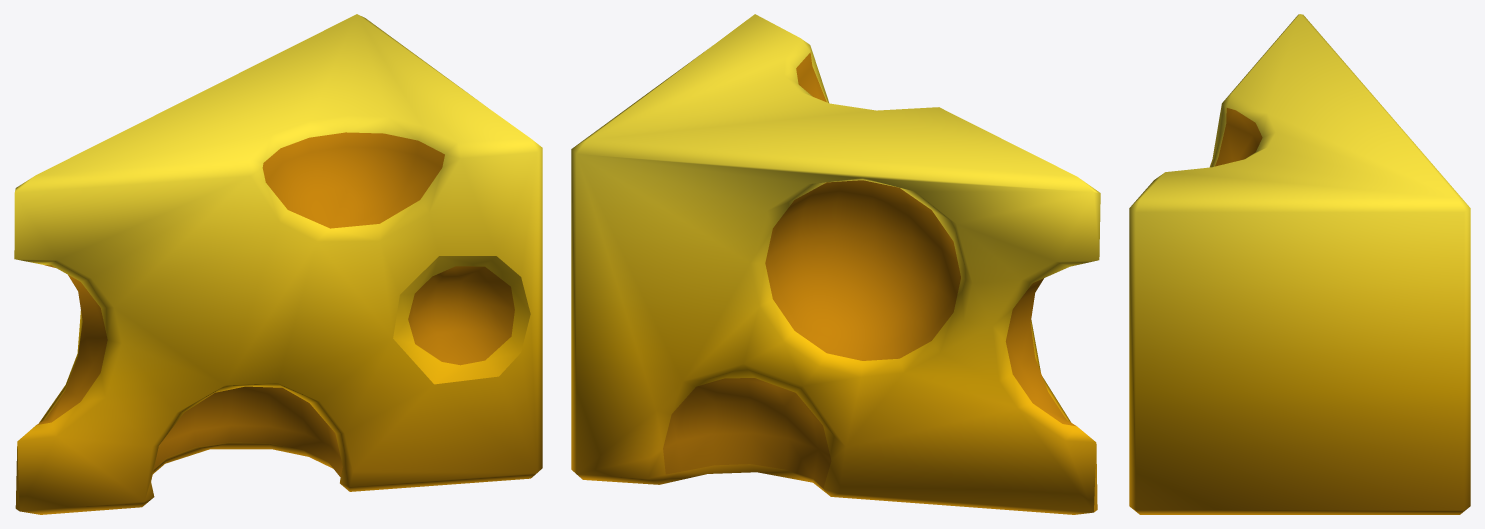
Rendered from Cheese_01.fbx.
3 views of the same model, side by side, from view 1: azimuth 30°, elevation 25°; view 2: azimuth 150°, elevation 25°; view 3: azimuth 270°, elevation 25° (orthographic). The views are drawn at different scales.
Parts seen in each view (by area): view 1: Cheese_01; view 2: Cheese_01; view 3: Cheese_01.
Part boxes in pixels (box(x1,y1,x2,y2)): Cheese_01: box(14, 14, 542, 514); Cheese_01: box(571, 14, 1100, 514); Cheese_01: box(1129, 14, 1470, 514).
Bounding box in the file's own units: 46.69 × 34.59 × 33.79.
